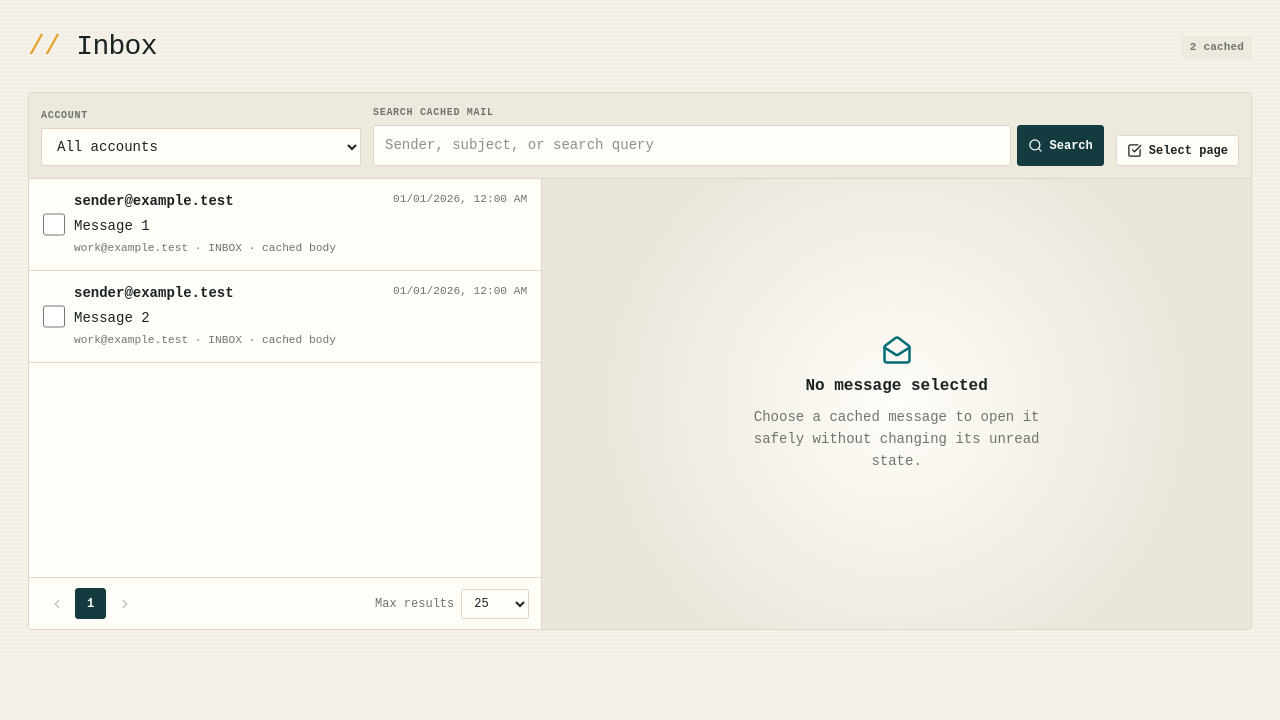
Scenario: responsive Inbox requests and rendering › never displays an old body under the newly opened message
Click the 1st element with class "mail-item".
click(285, 225)  # box [29,179,541,271]
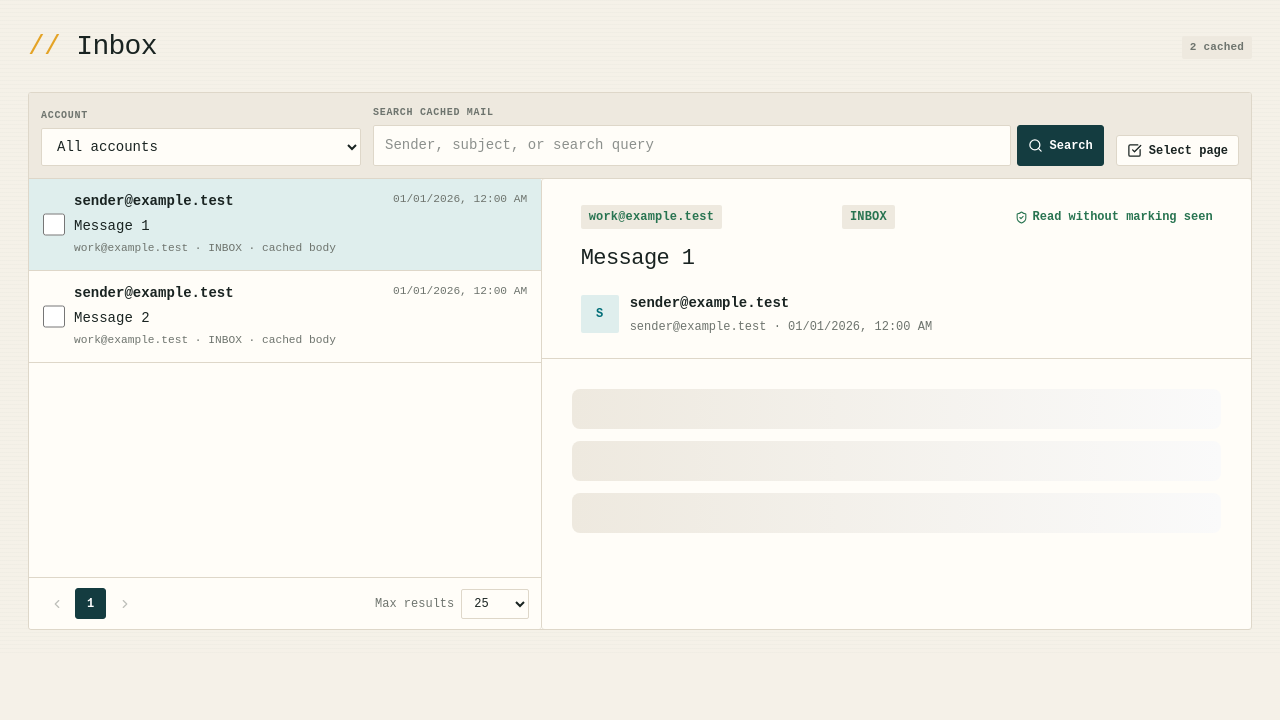
Click the 2nd element with class "mail-item".
click(285, 317)  # box [29,271,541,363]
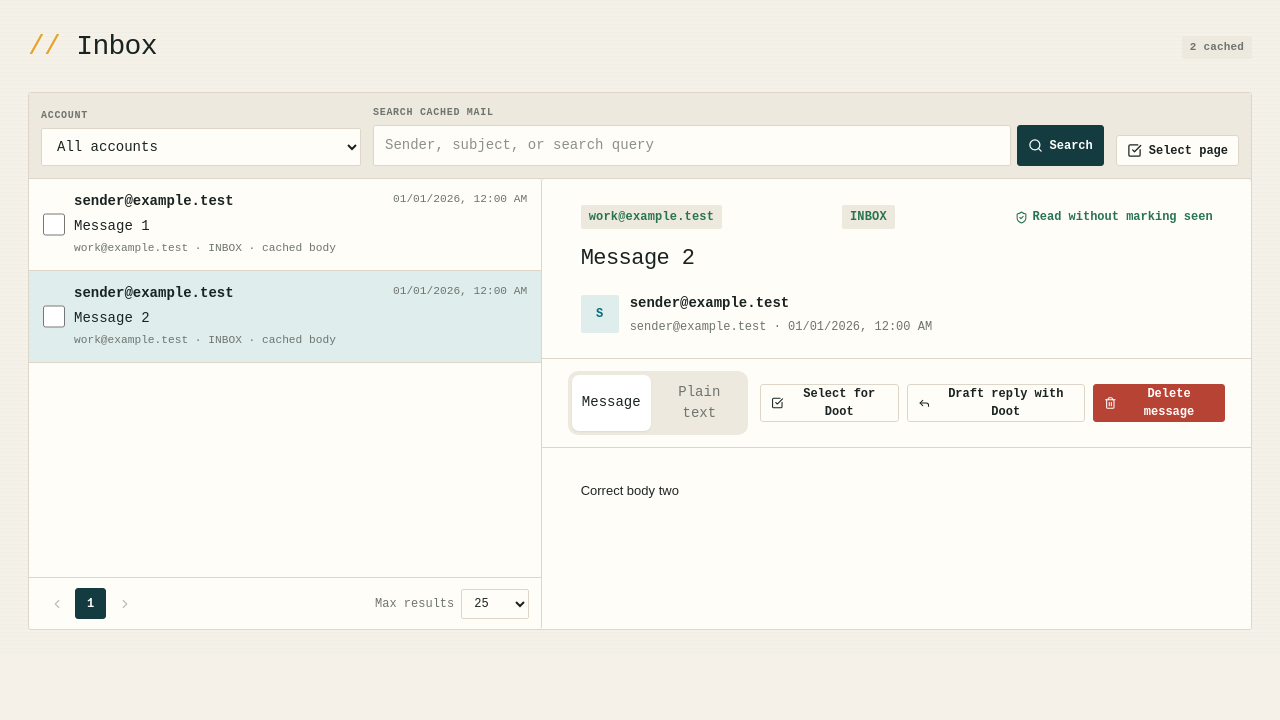
Expected: the heading "Message 2" is shown, [581,246,694,271]
Expected: the text "Correct body two" is shown, [581,482,679,498]
